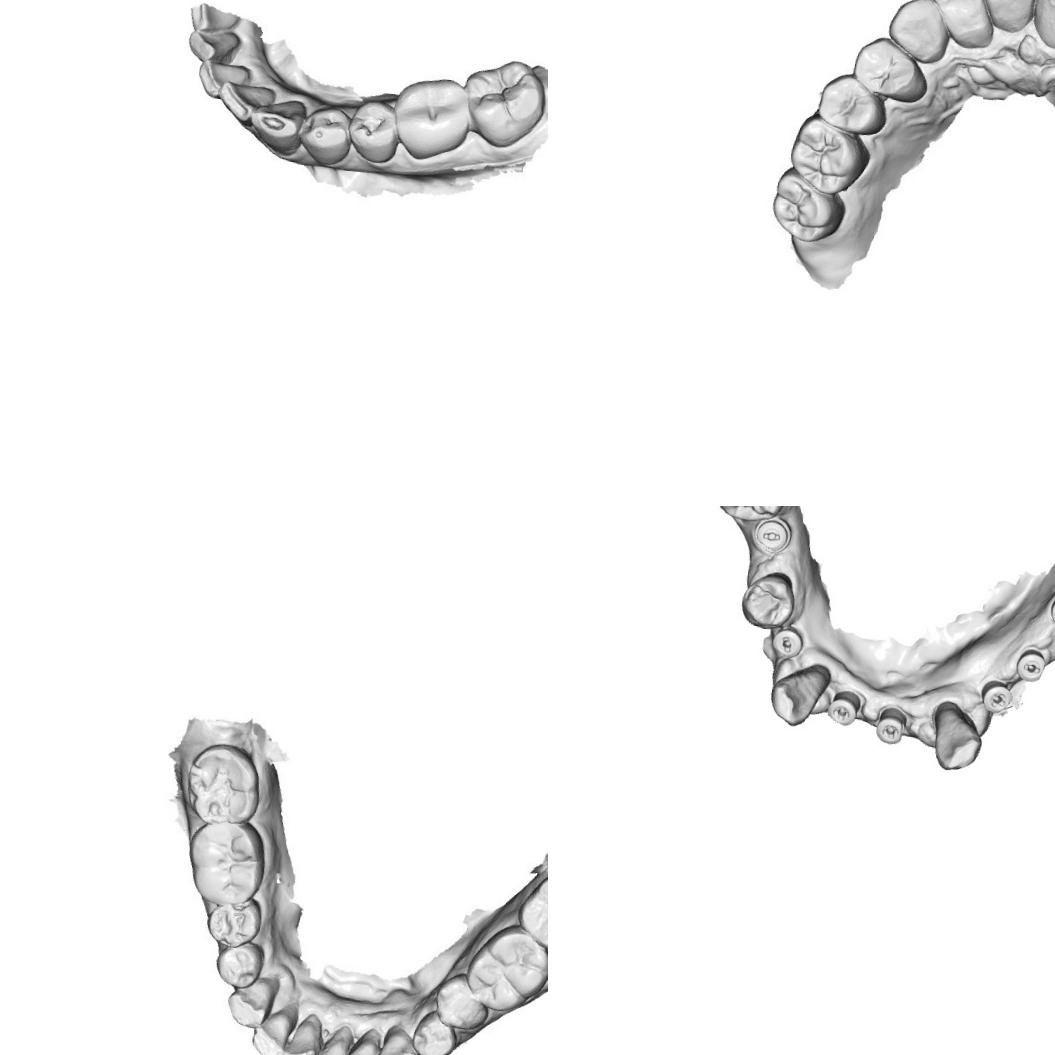canine: (766, 659, 834, 731), (882, 0, 955, 66), (928, 699, 988, 776), (248, 92, 308, 160), (223, 975, 275, 1033), (376, 1021, 420, 1055)
implant_minus: (750, 513, 795, 559), (768, 623, 806, 660), (1013, 647, 1049, 684), (1045, 588, 1055, 633)
implant_plus: (872, 702, 910, 748), (826, 687, 863, 729), (978, 678, 1016, 718)
incisor: (932, 0, 996, 50), (219, 79, 277, 123), (199, 57, 255, 100), (253, 1007, 295, 1055), (188, 26, 242, 62), (979, 0, 1037, 29), (283, 1011, 320, 1055), (1030, 0, 1055, 50), (313, 1028, 353, 1055), (342, 1029, 383, 1055)
molar: (394, 74, 478, 162), (461, 60, 544, 148), (184, 822, 264, 904), (468, 925, 548, 1002), (187, 740, 261, 822), (789, 118, 865, 195), (771, 170, 842, 241), (521, 867, 548, 952)
premolar: (341, 95, 406, 167), (852, 37, 928, 98), (737, 568, 799, 633), (819, 75, 885, 133), (298, 105, 354, 170), (433, 978, 487, 1029), (208, 900, 255, 946), (215, 944, 265, 986), (408, 1014, 457, 1055)
